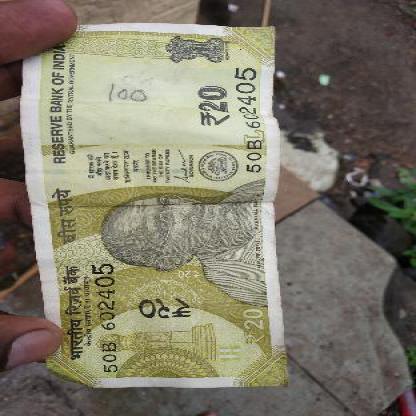New20Front: (49, 23, 282, 381)
